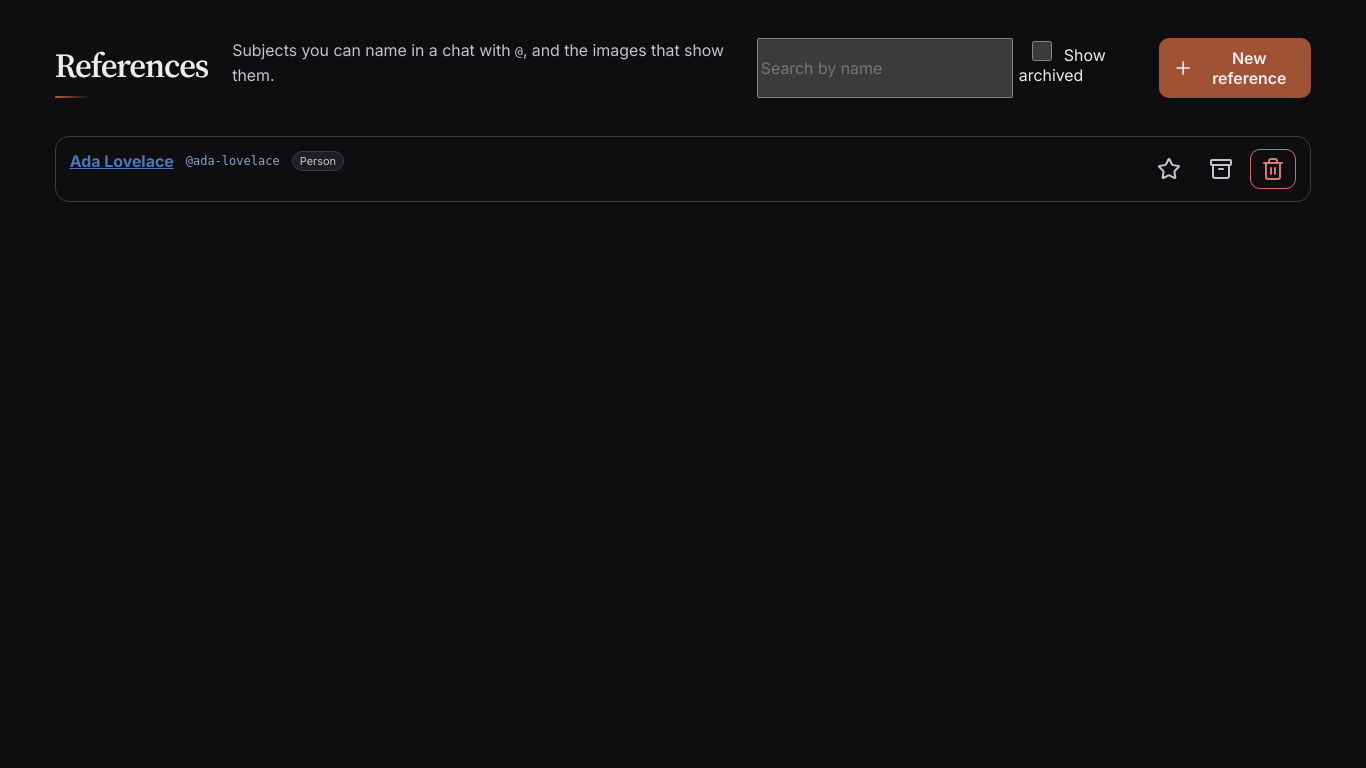
Scenario: references library › asks what deletion would destroy before offering to do it
What coordinates should you click on to do the following:
click the button named "Delete permanently"
I would click on:
 (1273, 169)
Its box is [1250, 149, 1296, 189].
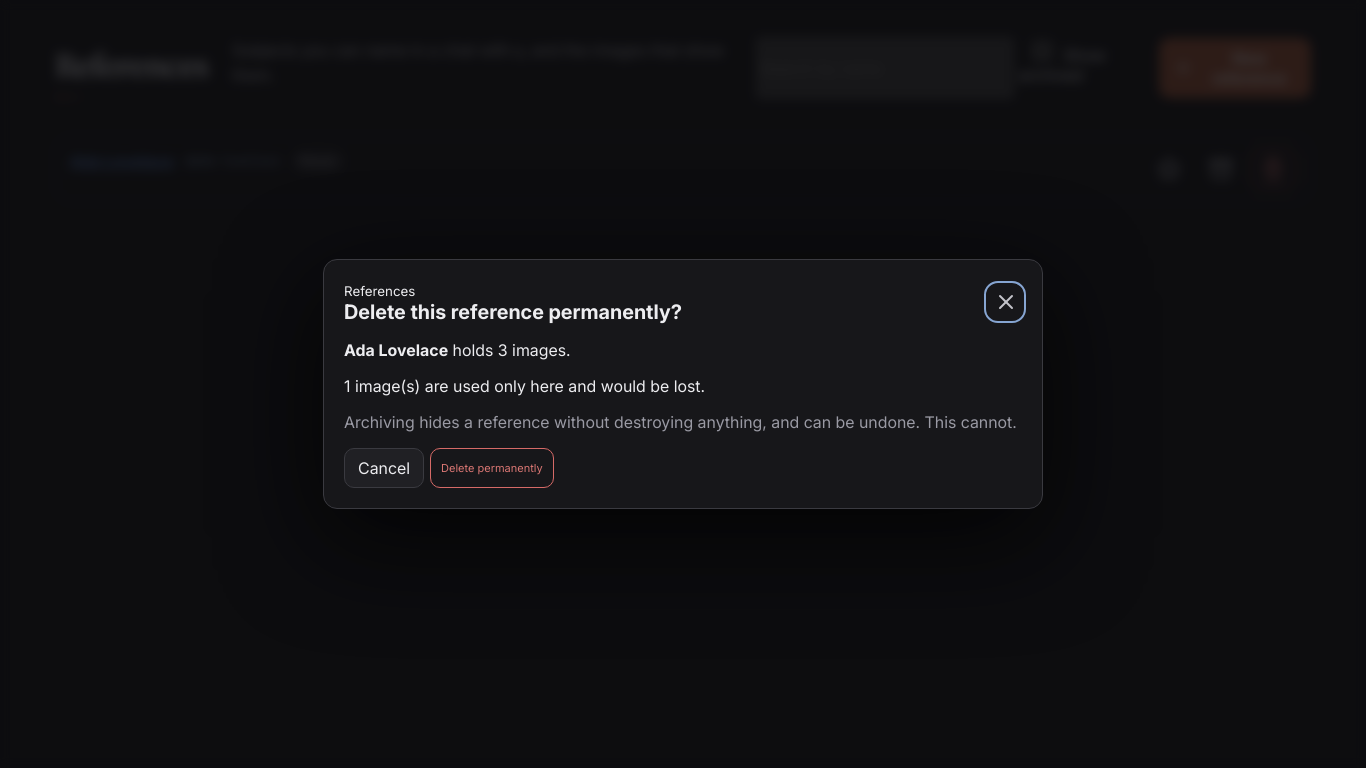
Check: the text "Ada Lovelace holds 3 images." is shown, box [344, 340, 571, 360]
Check: the text "1 image(s) are used only here and would be lost." is shown, box [344, 376, 705, 396]
